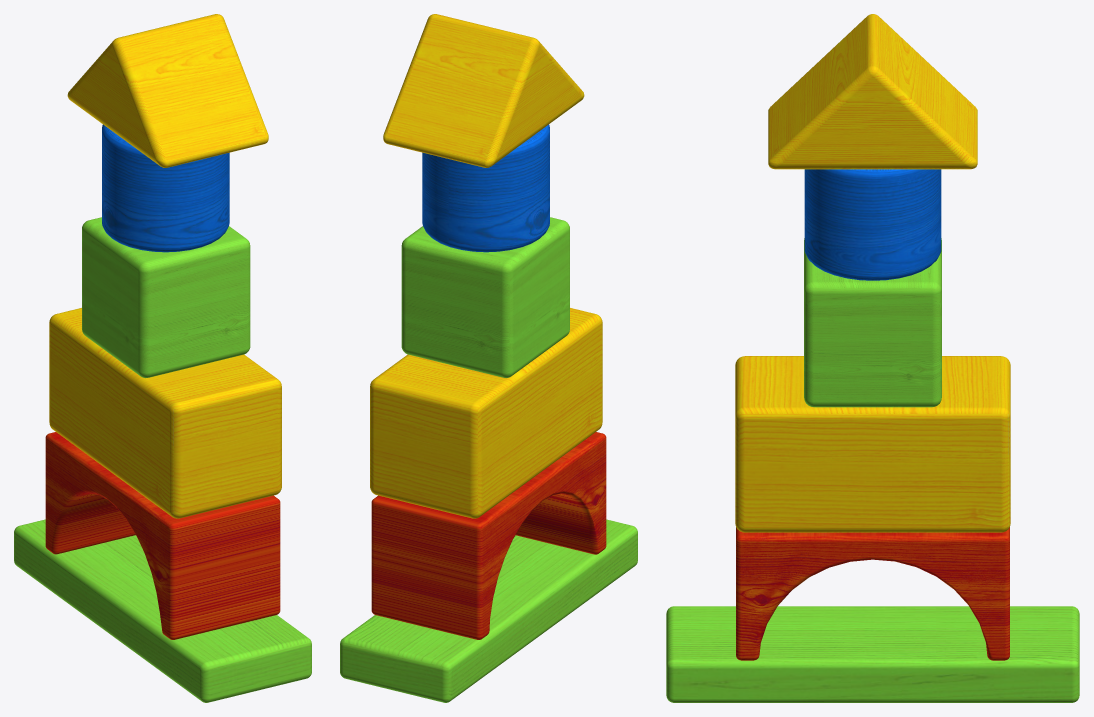
The model's file is tower_3.fbx.
The picture shows the model from 3 angles, left to right: view 1: azimuth 30°, elevation 25°; view 2: azimuth 150°, elevation 25°; view 3: azimuth 270°, elevation 25°; orthographic projection. The views are drawn at different scales.
Visible parts, largest first — view 1: cube5, pCube3, cube6, cube4, Box003, Cylinder002; view 2: cube5, pCube3, cube6, cube4, Box003, Cylinder002; view 3: cube5, cube4, Box003, cube6, pCube3, Cylinder002.
Part boxes in pixels (x1,y1,x2,y2): cube5: (49, 308, 281, 518); pCube3: (45, 432, 280, 639); cube6: (82, 217, 250, 378); cube4: (14, 519, 311, 702); Box003: (67, 14, 268, 167); Cylinder002: (102, 124, 229, 252); cube5: (370, 308, 602, 518); pCube3: (371, 432, 606, 639); cube6: (401, 217, 569, 377); cube4: (340, 519, 637, 702); Box003: (383, 14, 584, 167); Cylinder002: (422, 124, 549, 252); cube5: (735, 356, 1010, 532); cube4: (666, 606, 1079, 702); Box003: (768, 14, 977, 169); cube6: (804, 238, 941, 407); pCube3: (736, 527, 1009, 660); Cylinder002: (804, 169, 941, 280).
Size of the model in its own units: 105 by 512 by 300.
Materials: 1 (1 with a texture image).
